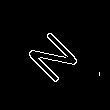N_SE: (20, 25, 84, 90)
